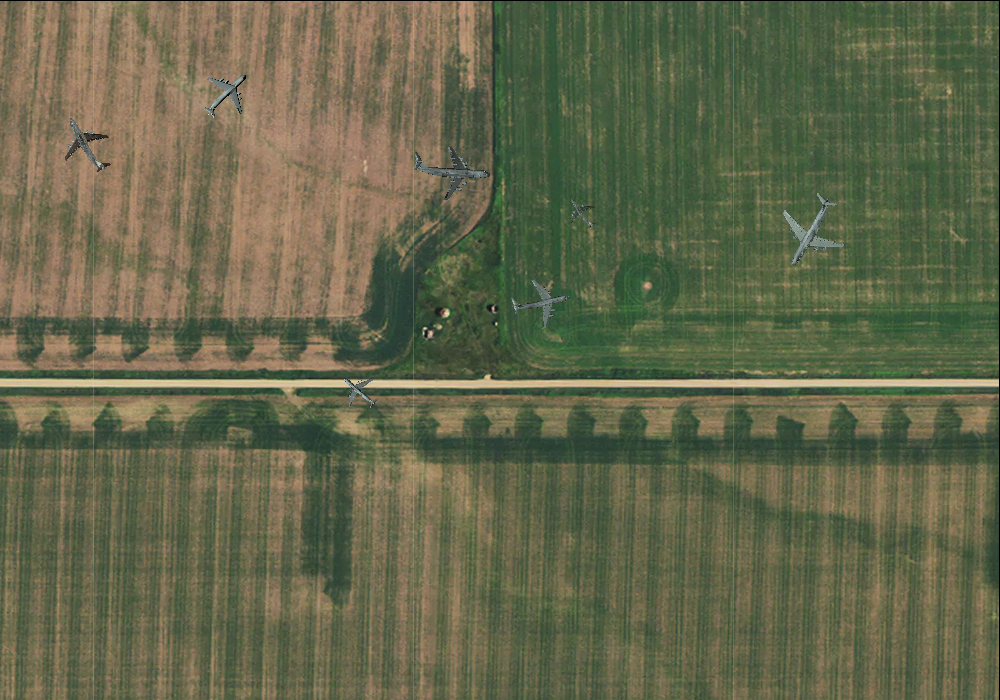plane: (759, 179, 862, 282), (46, 103, 126, 184), (410, 132, 492, 204), (189, 56, 264, 132), (506, 268, 575, 335), (331, 363, 387, 419), (558, 189, 605, 236)
